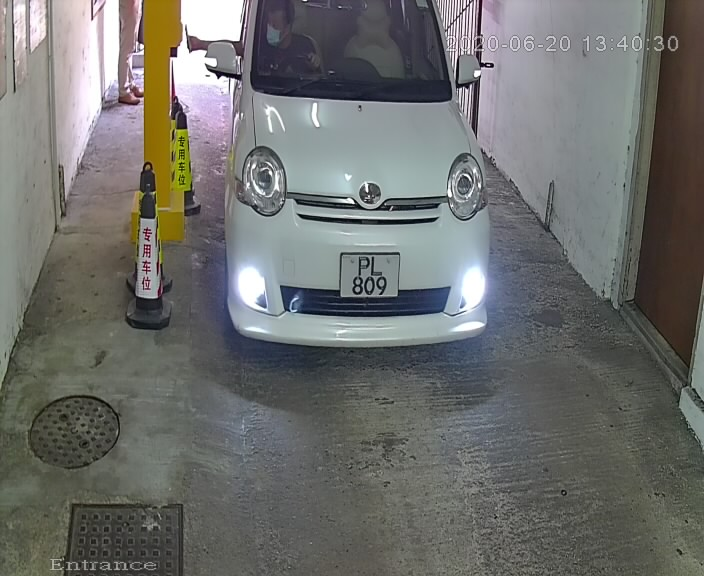privatecar: (205, 3, 502, 380)
